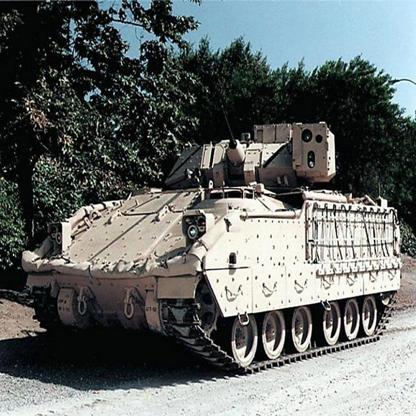Tank: (21, 114, 404, 375)
